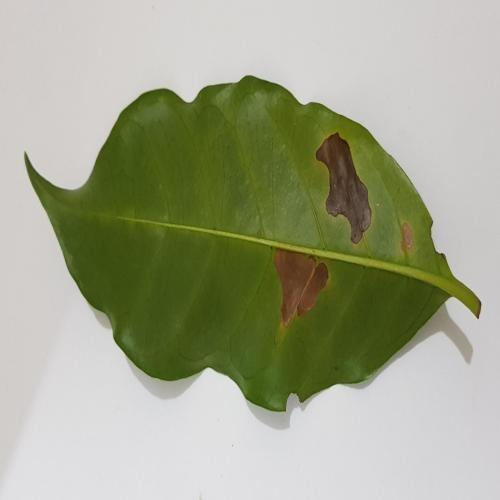leaf: (316, 133, 373, 246)
